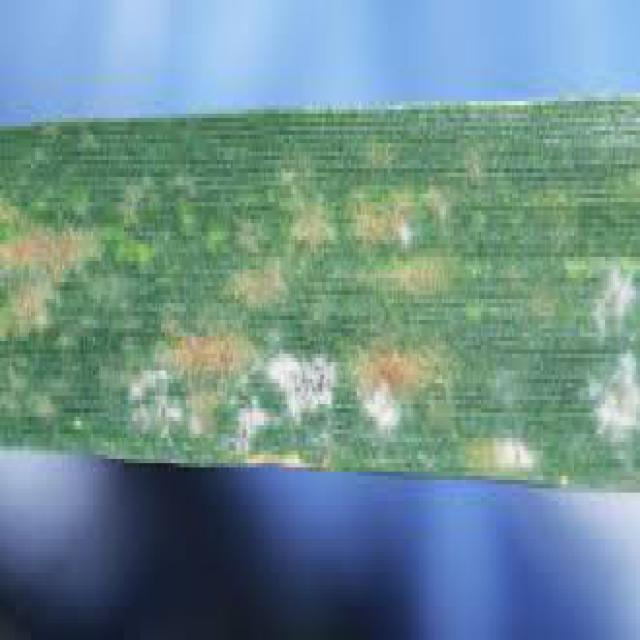wheat-powdery-mildew: (0, 93, 640, 497)
